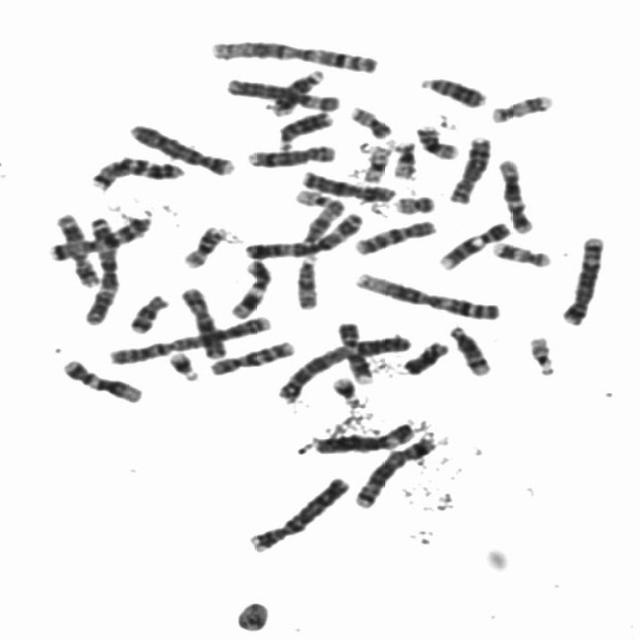A1: (346, 264, 504, 322), (203, 32, 382, 74)
A2: (270, 328, 414, 403), (102, 309, 275, 366)
A3: (238, 205, 368, 261), (77, 211, 123, 327)
B4: (241, 470, 353, 554), (122, 116, 238, 177)
B5: (348, 428, 439, 510), (554, 228, 608, 326)
C10: (202, 333, 298, 377), (347, 213, 439, 256)
C11: (49, 206, 102, 288), (222, 253, 274, 320)
C12: (54, 352, 146, 404), (492, 152, 537, 235)
C6: (218, 71, 342, 112), (306, 417, 417, 456)
C7: (42, 209, 155, 262), (84, 150, 188, 191)
C8: (442, 129, 494, 204), (240, 138, 340, 168)
C9: (433, 215, 513, 271), (330, 314, 376, 386)
D13: (412, 69, 489, 109), (272, 104, 335, 150)
D14: (264, 63, 328, 116), (442, 318, 494, 377)
D15: (296, 196, 346, 246), (288, 249, 322, 311)
E16: (175, 219, 229, 269), (409, 117, 463, 161)
E17: (484, 87, 556, 124), (486, 234, 555, 269)
E18: (122, 287, 172, 335), (396, 334, 452, 376)
F19: (355, 138, 393, 184), (388, 144, 419, 182)
F20: (342, 99, 394, 140), (387, 188, 438, 216)
G21: (161, 344, 203, 382), (325, 369, 364, 408)
G22: (521, 328, 559, 377), (288, 182, 336, 210)
X: (173, 280, 228, 360), (294, 164, 398, 203)
